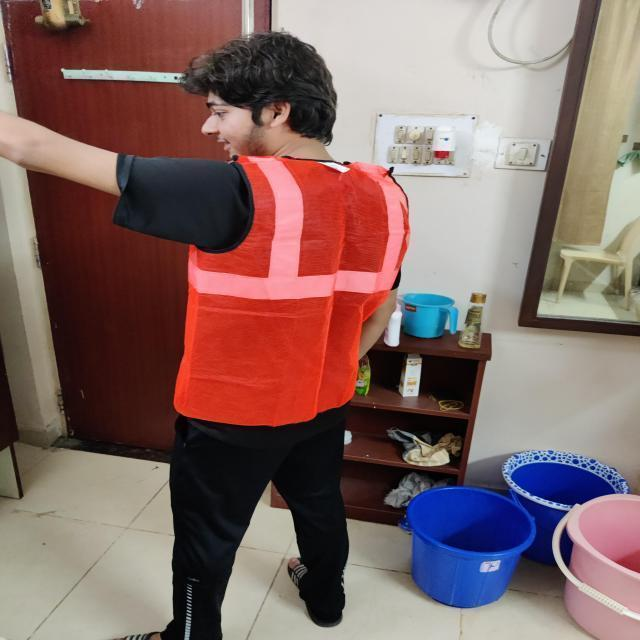no-helmet: (188, 37, 338, 118)
vest: (173, 151, 414, 433)
